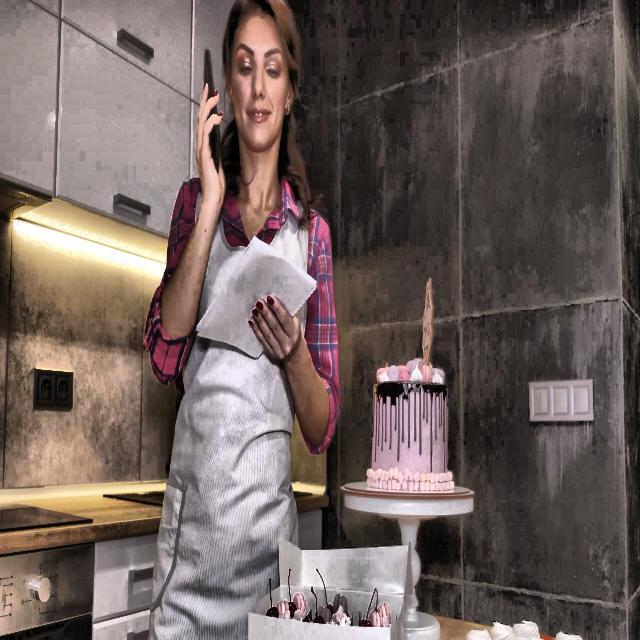Phone: (203, 48, 221, 175)
